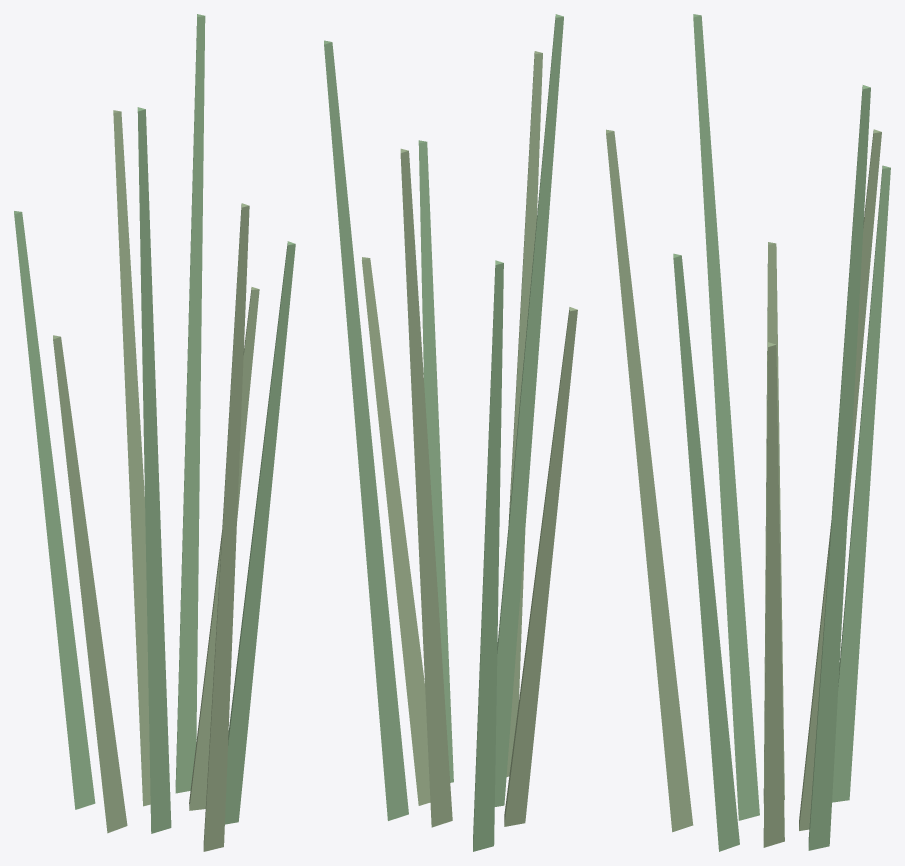
Rendered from reed_v11.glb.
3 views of the same model, side by side, from view 1: azimuth 30°, elevation 25°; view 2: azimuth 150°, elevation 25°; view 3: azimuth 270°, elevation 25° (orthographic). The views are drawn at different scales.
Parts seen in each view (by area): view 1: lod0; view 2: lod0; view 3: lod0.
Boxes of the visible parts, bbox=[...] form: lod0: bbox=[14, 14, 295, 851]; lod0: bbox=[324, 14, 577, 851]; lod0: bbox=[606, 14, 890, 851].
Size of what is drawn, in the model's own units: 0.3538 by 1.22 by 0.4046.
